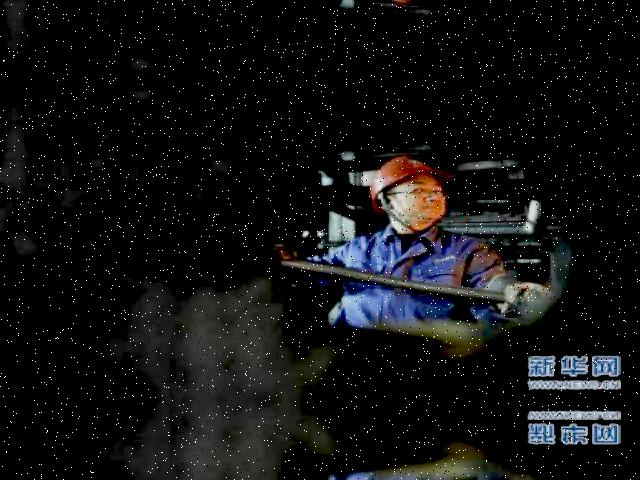Helmet: (364, 150, 436, 208)
